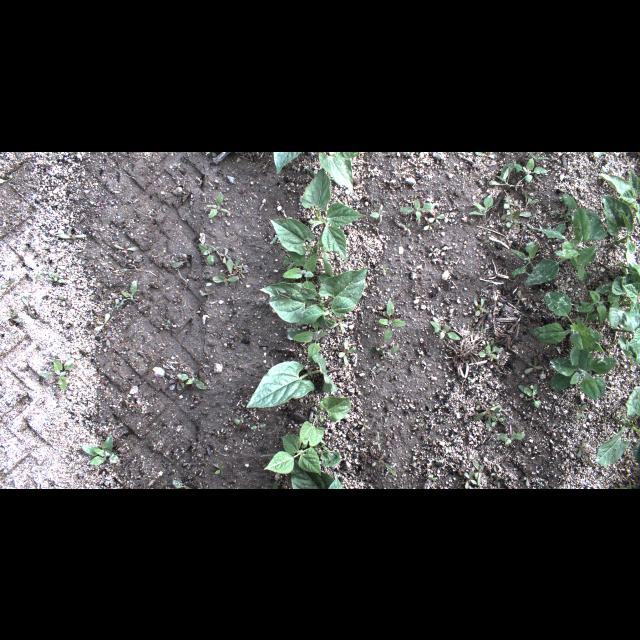crop: (299, 168, 367, 262), (262, 264, 368, 324), (524, 208, 596, 284), (592, 253, 640, 365), (247, 354, 339, 408), (528, 292, 604, 354), (549, 346, 617, 402), (262, 433, 344, 475), (598, 385, 640, 465), (584, 194, 634, 254), (298, 394, 352, 446), (597, 166, 639, 220), (288, 322, 338, 362), (280, 253, 334, 289), (270, 216, 320, 254), (318, 152, 364, 192), (290, 458, 344, 488), (274, 152, 302, 172)
weed: (576, 291, 620, 323), (378, 298, 407, 344), (40, 356, 76, 392), (510, 239, 542, 277), (82, 435, 122, 465), (490, 162, 524, 186), (213, 258, 239, 288), (515, 158, 547, 182), (400, 198, 434, 220), (556, 193, 576, 230), (472, 404, 502, 428), (468, 194, 498, 216), (207, 191, 230, 219), (518, 382, 542, 408), (114, 282, 138, 308), (174, 372, 208, 390), (430, 320, 460, 340), (494, 430, 526, 446), (338, 339, 356, 366), (199, 243, 219, 265), (472, 458, 484, 488), (94, 312, 110, 332), (477, 346, 499, 360), (474, 297, 491, 315), (524, 358, 542, 374), (576, 438, 590, 458), (518, 468, 532, 488), (59, 230, 86, 240), (22, 297, 34, 319), (370, 452, 386, 468), (487, 414, 505, 428), (491, 466, 503, 486), (173, 254, 189, 268), (463, 472, 477, 488), (512, 290, 526, 306), (332, 316, 346, 332), (527, 151, 549, 161), (576, 402, 588, 420), (368, 344, 386, 356), (428, 211, 446, 223), (524, 192, 536, 208), (114, 242, 138, 250), (217, 248, 229, 264), (172, 480, 194, 488), (373, 432, 383, 448), (49, 272, 65, 282), (508, 211, 518, 227), (502, 206, 512, 222), (357, 421, 371, 432), (8, 310, 20, 322), (386, 463, 396, 477), (580, 455, 594, 465), (2, 277, 16, 287), (272, 480, 288, 488), (425, 220, 439, 228), (370, 209, 384, 217), (213, 465, 224, 475), (486, 338, 496, 348), (240, 264, 247, 278), (250, 422, 266, 428), (389, 344, 398, 354), (233, 417, 244, 425), (373, 362, 381, 373), (58, 294, 68, 302), (476, 152, 496, 156), (234, 258, 242, 268), (476, 239, 489, 245), (382, 262, 388, 274), (503, 198, 512, 206), (520, 211, 532, 217), (432, 458, 442, 464), (592, 152, 606, 156), (428, 476, 437, 482), (429, 440, 437, 446), (278, 416, 284, 424), (479, 323, 485, 331), (36, 270, 42, 278), (404, 222, 410, 230), (43, 156, 49, 164), (306, 167, 312, 175), (512, 202, 520, 208), (150, 478, 156, 484), (466, 376, 472, 382), (0, 178, 8, 182), (538, 482, 544, 486), (0, 316, 6, 320), (550, 210, 558, 213), (559, 196, 563, 200)
